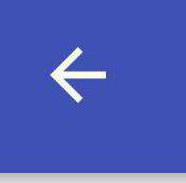ImgButton: (1, 1, 185, 182)
